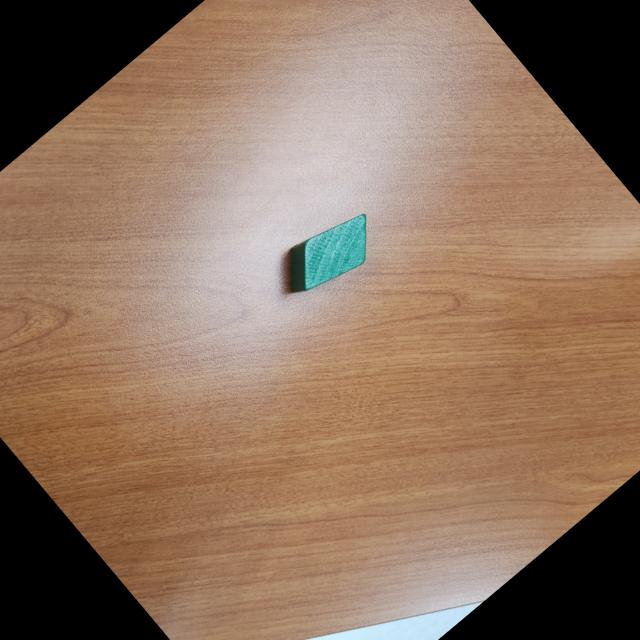green: (269, 197, 388, 310)
